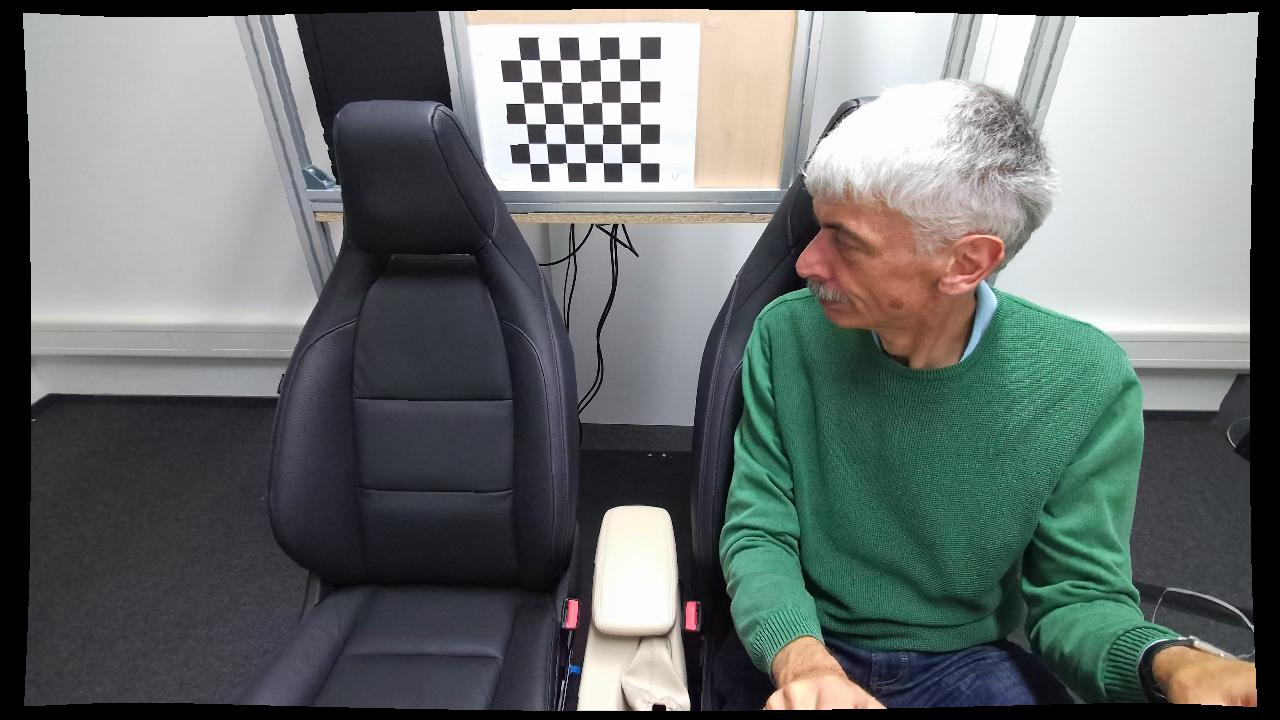Distracted: (718, 81, 1165, 706)
